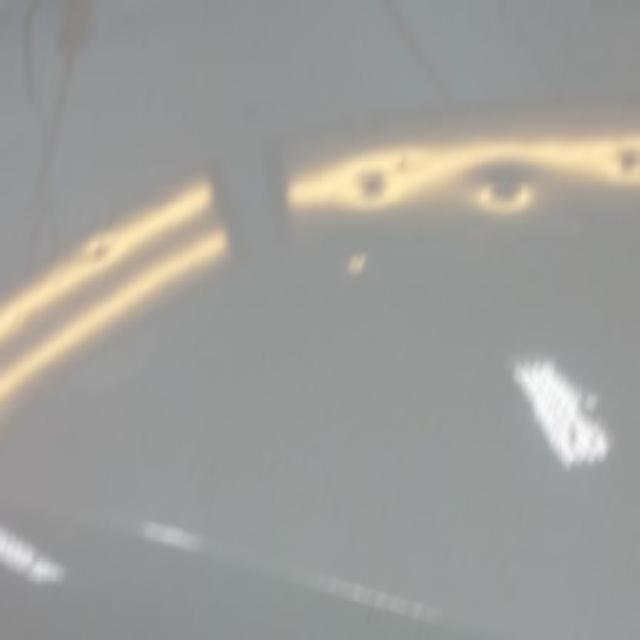dent: (473, 171, 535, 214), (353, 166, 389, 199), (610, 144, 640, 178), (395, 156, 424, 175), (347, 253, 370, 275), (92, 243, 111, 265)
